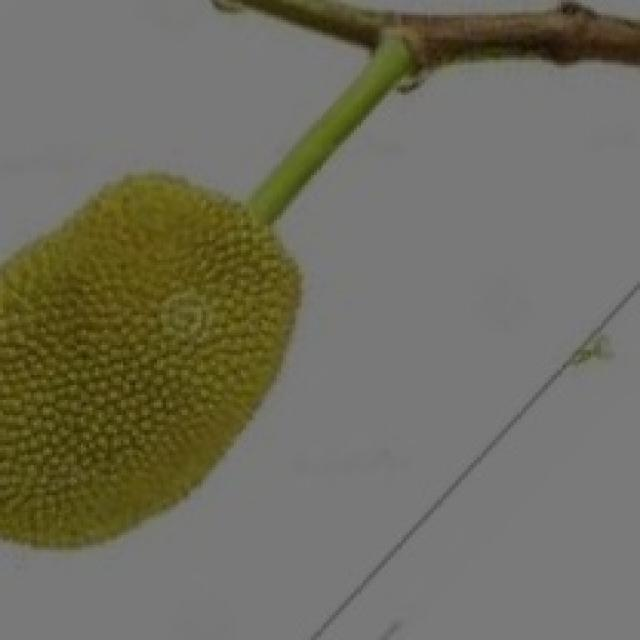Fruit: (0, 152, 348, 570)
